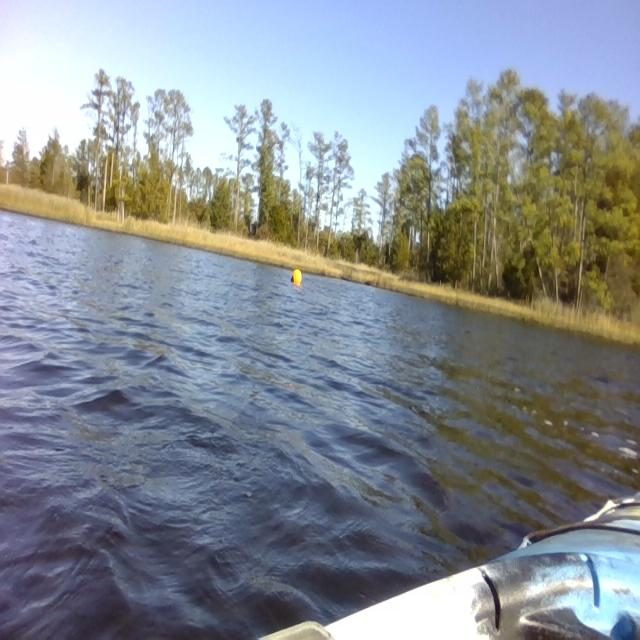Buoy: (289, 264, 303, 291)
